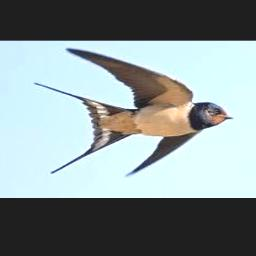Swallow: (34, 47, 233, 177)
